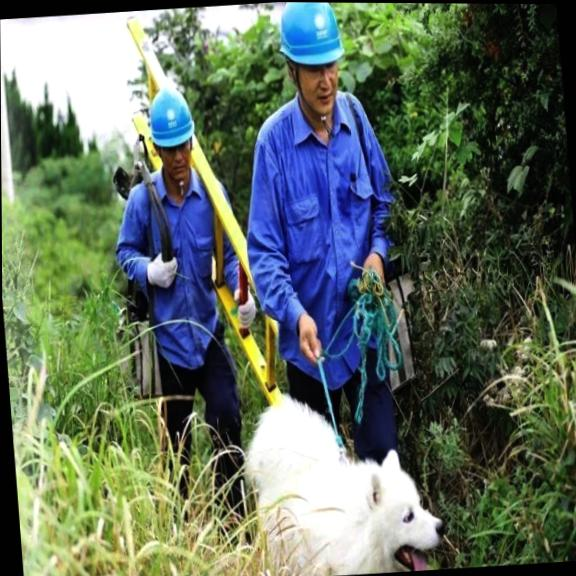no_safety_vest: (268, 98, 385, 370), (138, 165, 229, 361)
